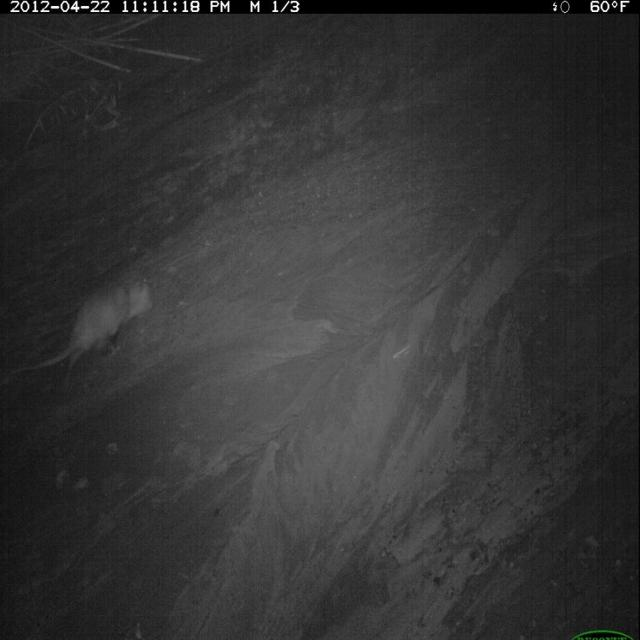opossum: (10, 271, 163, 391)
